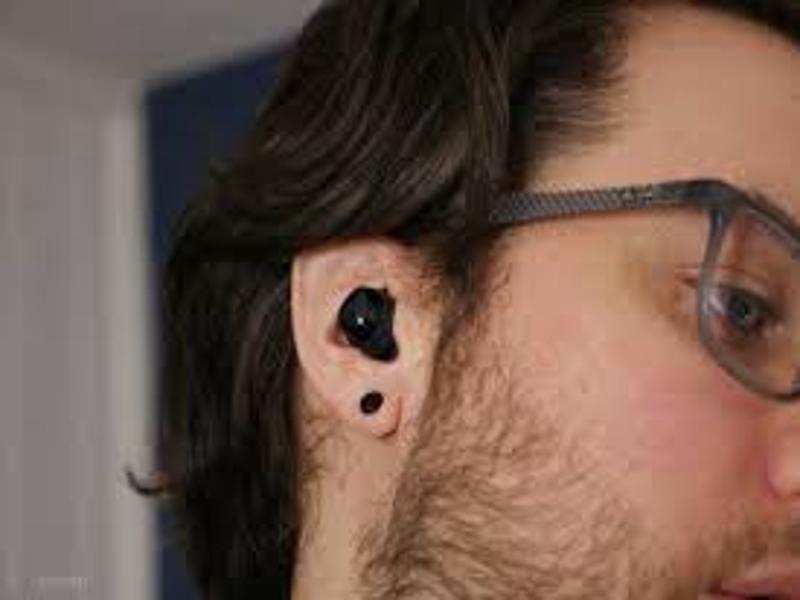headphone: (339, 285, 401, 357)
